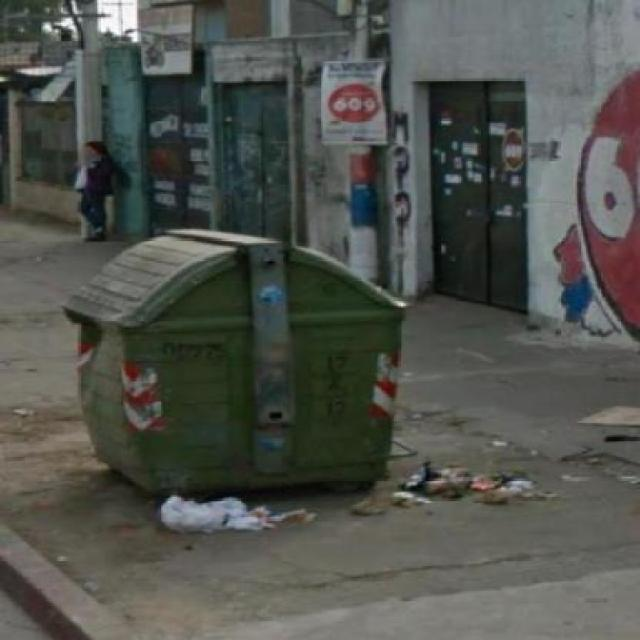garbage: (142, 483, 316, 544), (389, 460, 549, 508), (574, 405, 640, 442), (333, 497, 393, 527)
